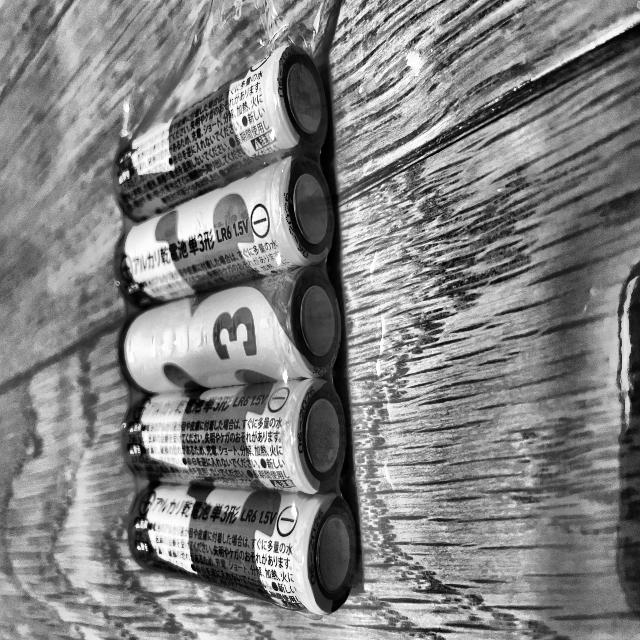drycell: (112, 45, 349, 212), (107, 158, 350, 316)
